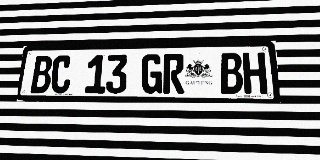1: (85, 55, 107, 93)
3: (106, 55, 128, 93)
B: (220, 53, 244, 94), (30, 56, 53, 93)
C: (50, 55, 72, 93)
G: (141, 54, 163, 94)
H: (242, 52, 268, 94)
R: (163, 54, 184, 94)
